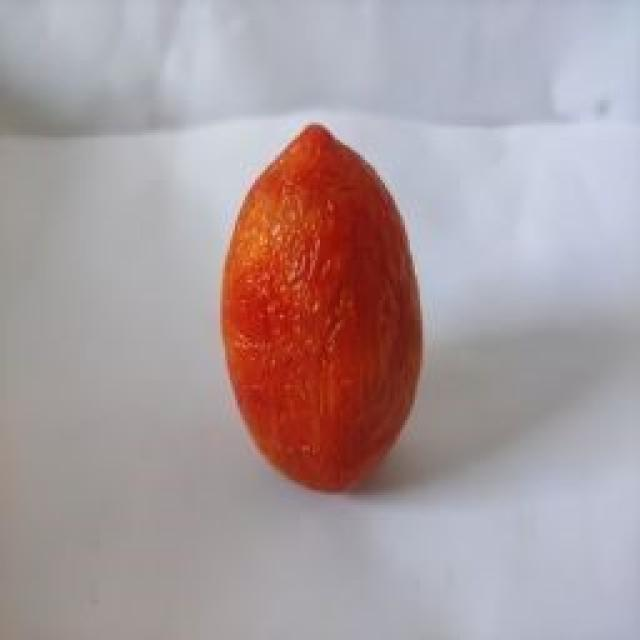overripe: (216, 118, 427, 496)
